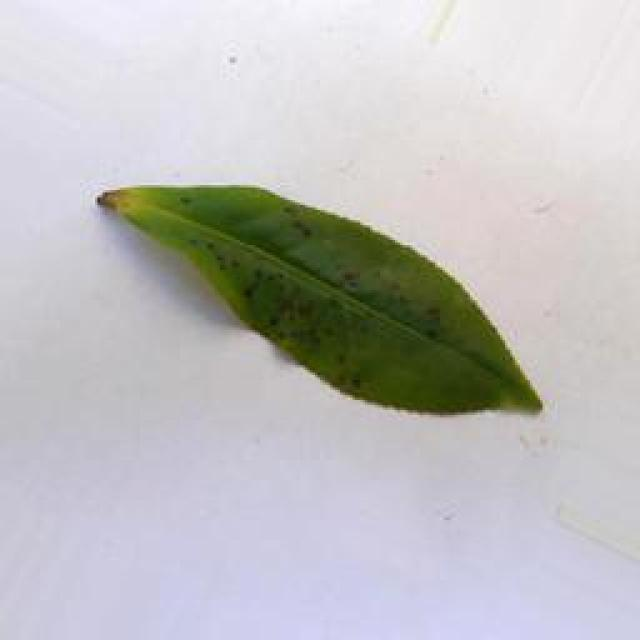Helopeltis: (88, 180, 545, 428)
